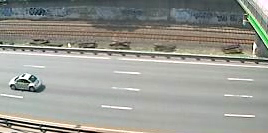car: (6, 72, 45, 93)
